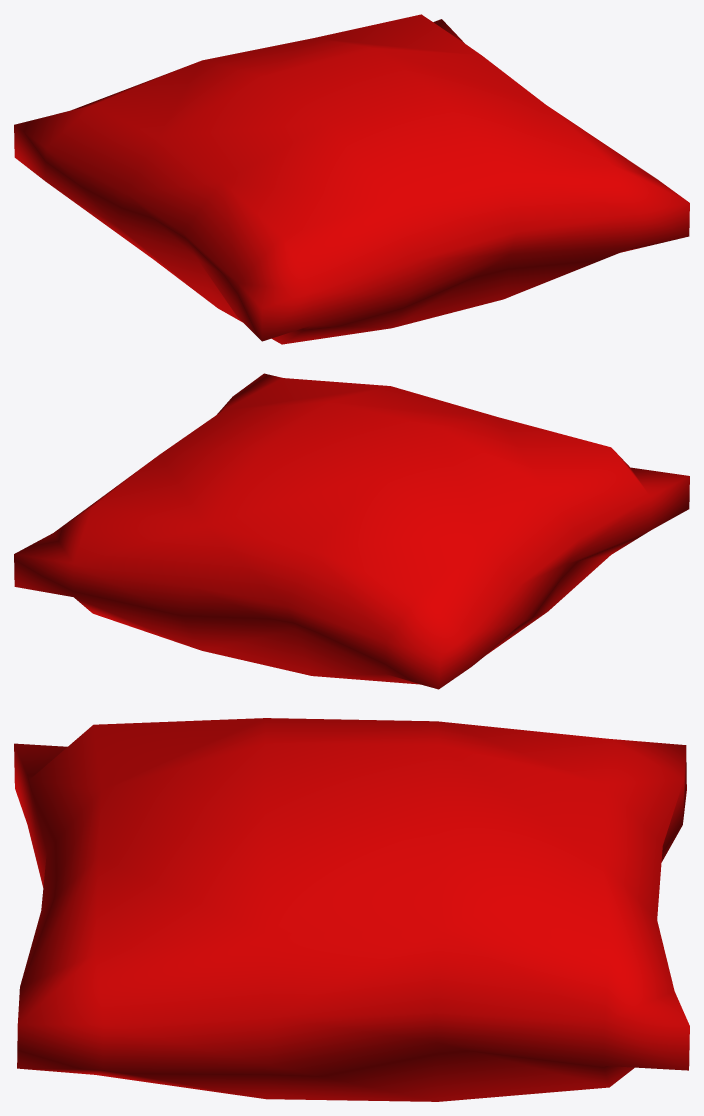
Rendered from Attic_Pillow_05_LP.glb.
3 views of the same model, one above another, from view 1: azimuth 30°, elevation 25°; view 2: azimuth 150°, elevation 25°; view 3: azimuth 270°, elevation 25° (orthographic). The views are drawn at different scales.
Parts seen in each view (by area): view 1: Attic_Pillow_05_LP; view 2: Attic_Pillow_05_LP; view 3: Attic_Pillow_05_LP.
Part boxes in pixels (bbox=[...]): Attic_Pillow_05_LP: bbox=[14, 14, 689, 344]; Attic_Pillow_05_LP: bbox=[14, 373, 689, 689]; Attic_Pillow_05_LP: bbox=[14, 718, 689, 1101].
Bounding box in the file's own units: 0.6834 × 0.2402 × 0.6908.
